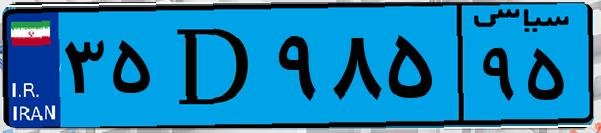3: (57, 26, 110, 100)
5: (385, 28, 445, 110), (525, 38, 570, 115), (110, 28, 158, 98)
8: (330, 28, 385, 110)
9: (270, 28, 330, 110), (475, 38, 525, 113)
D: (158, 12, 270, 120)
